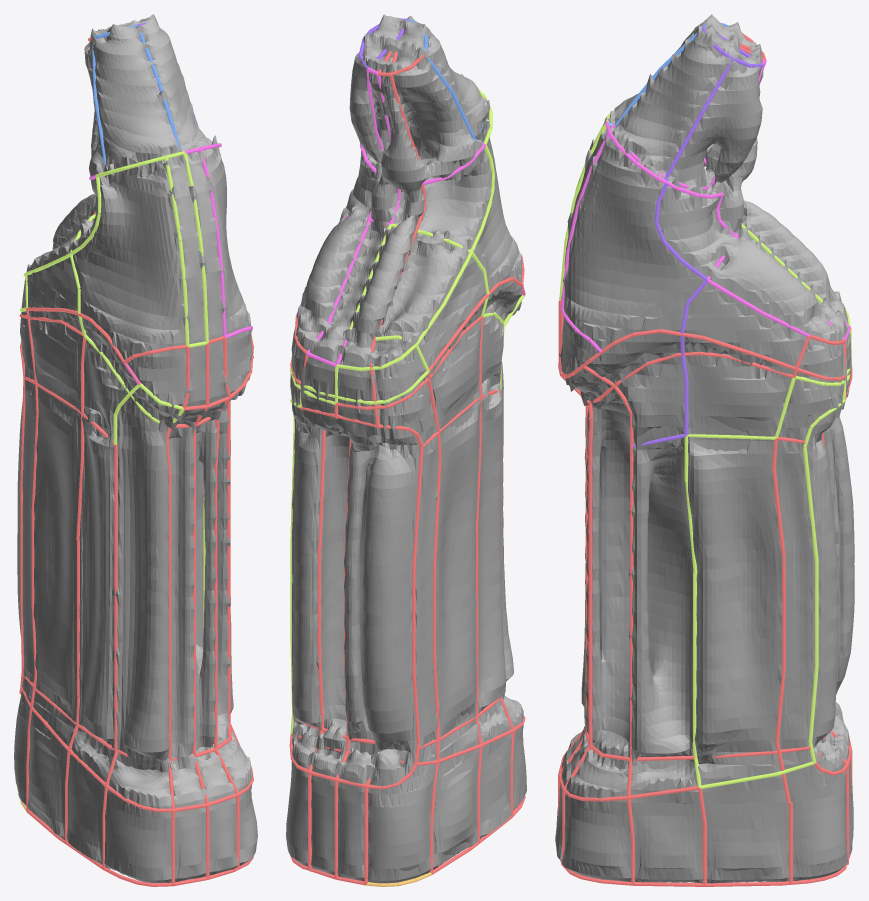
File: flowrep_bottle.gltf
The picture shows the model from 3 angles, left to right: view 1: azimuth 30°, elevation 25°; view 2: azimuth 150°, elevation 25°; view 3: azimuth 270°, elevation 25°; orthographic projection. The views are drawn at different scales.
Size of the model in its own units: 0.1901 by 0.9485 by 0.3103.
